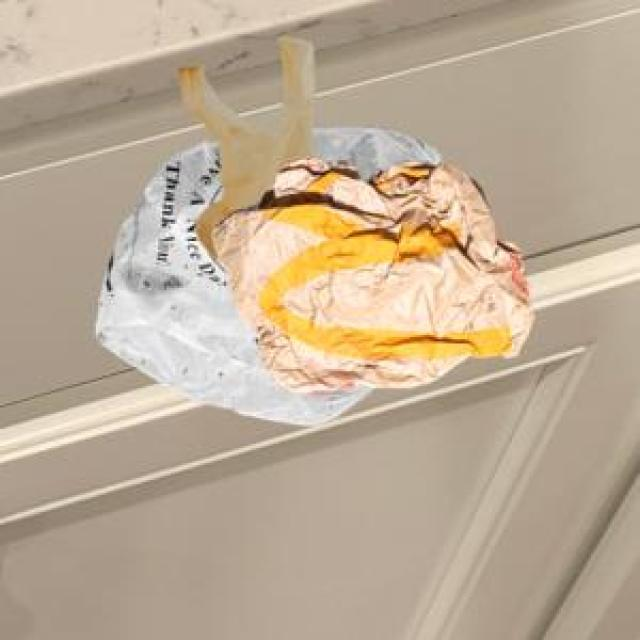paper: (207, 154, 529, 388)
